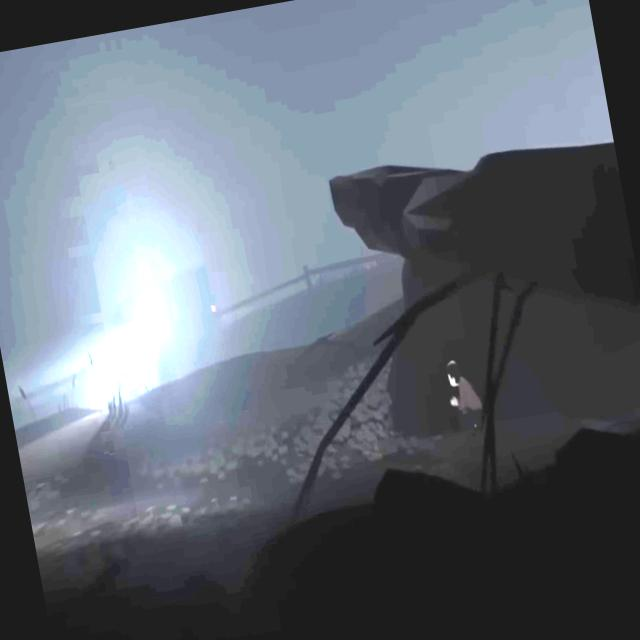boy: (442, 356, 487, 436)
